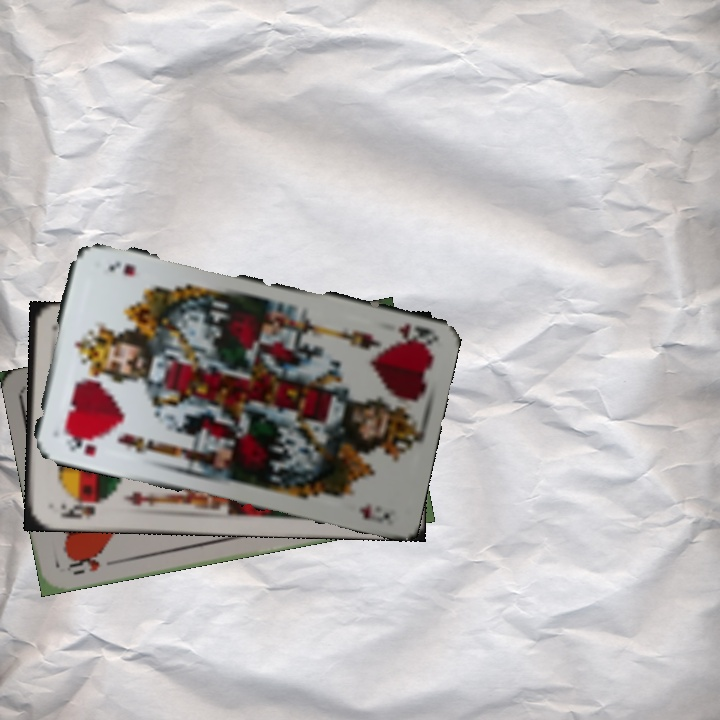HK: (393, 318, 435, 348), (59, 429, 100, 459)
HO: (62, 549, 121, 578)
SK: (56, 496, 109, 522)
